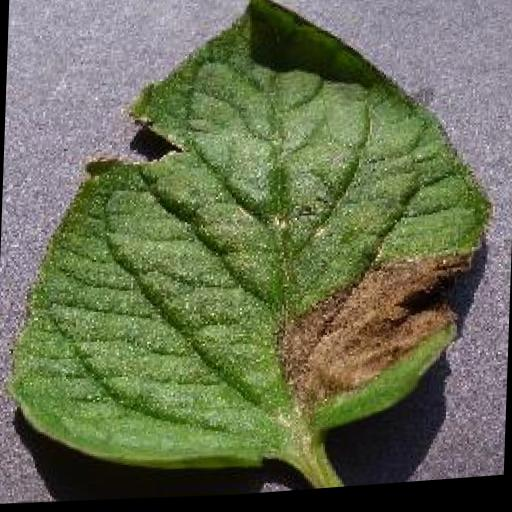Late Blight: (2, 0, 493, 501)
